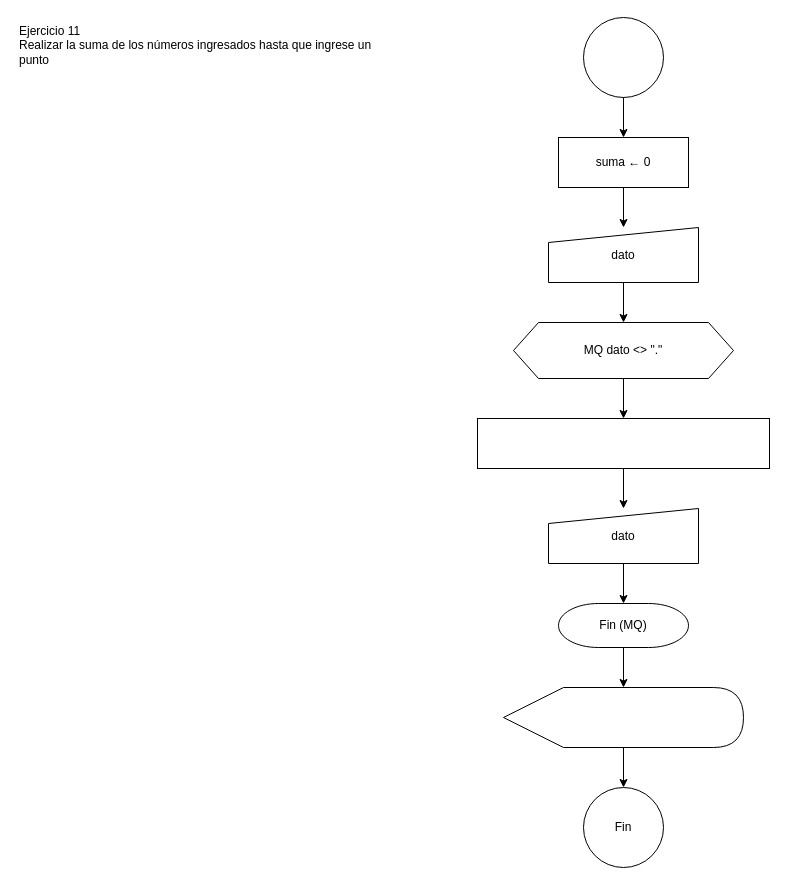
Image size: 787x885. Some labels were removed from this diagram. Here are the shapes that lost their labels. From the top down, the centre of each, then its label:
(x=623, y=57): Inicio
(x=623, y=443): suma ← suma + ConvertirANumero(dato)
(x=623, y=717): "La suma es: ", suma
